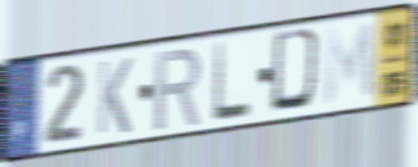2: (43, 61, 88, 149)
D: (268, 25, 326, 115)
K: (95, 55, 135, 137)
L: (210, 39, 253, 126)
M: (323, 19, 377, 110)
R: (152, 45, 205, 134)
